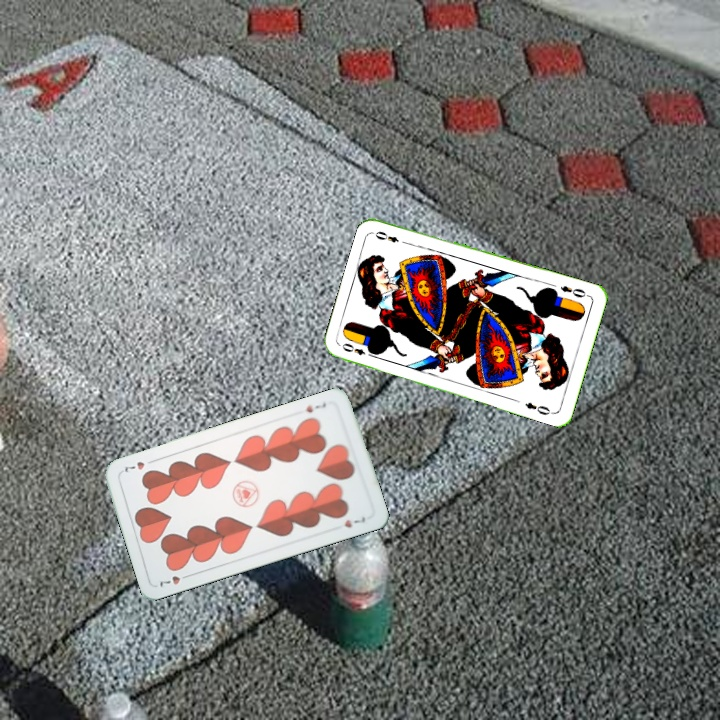EO: (338, 339, 377, 360), (556, 281, 592, 300)
H7: (156, 570, 193, 590), (302, 399, 328, 415)
